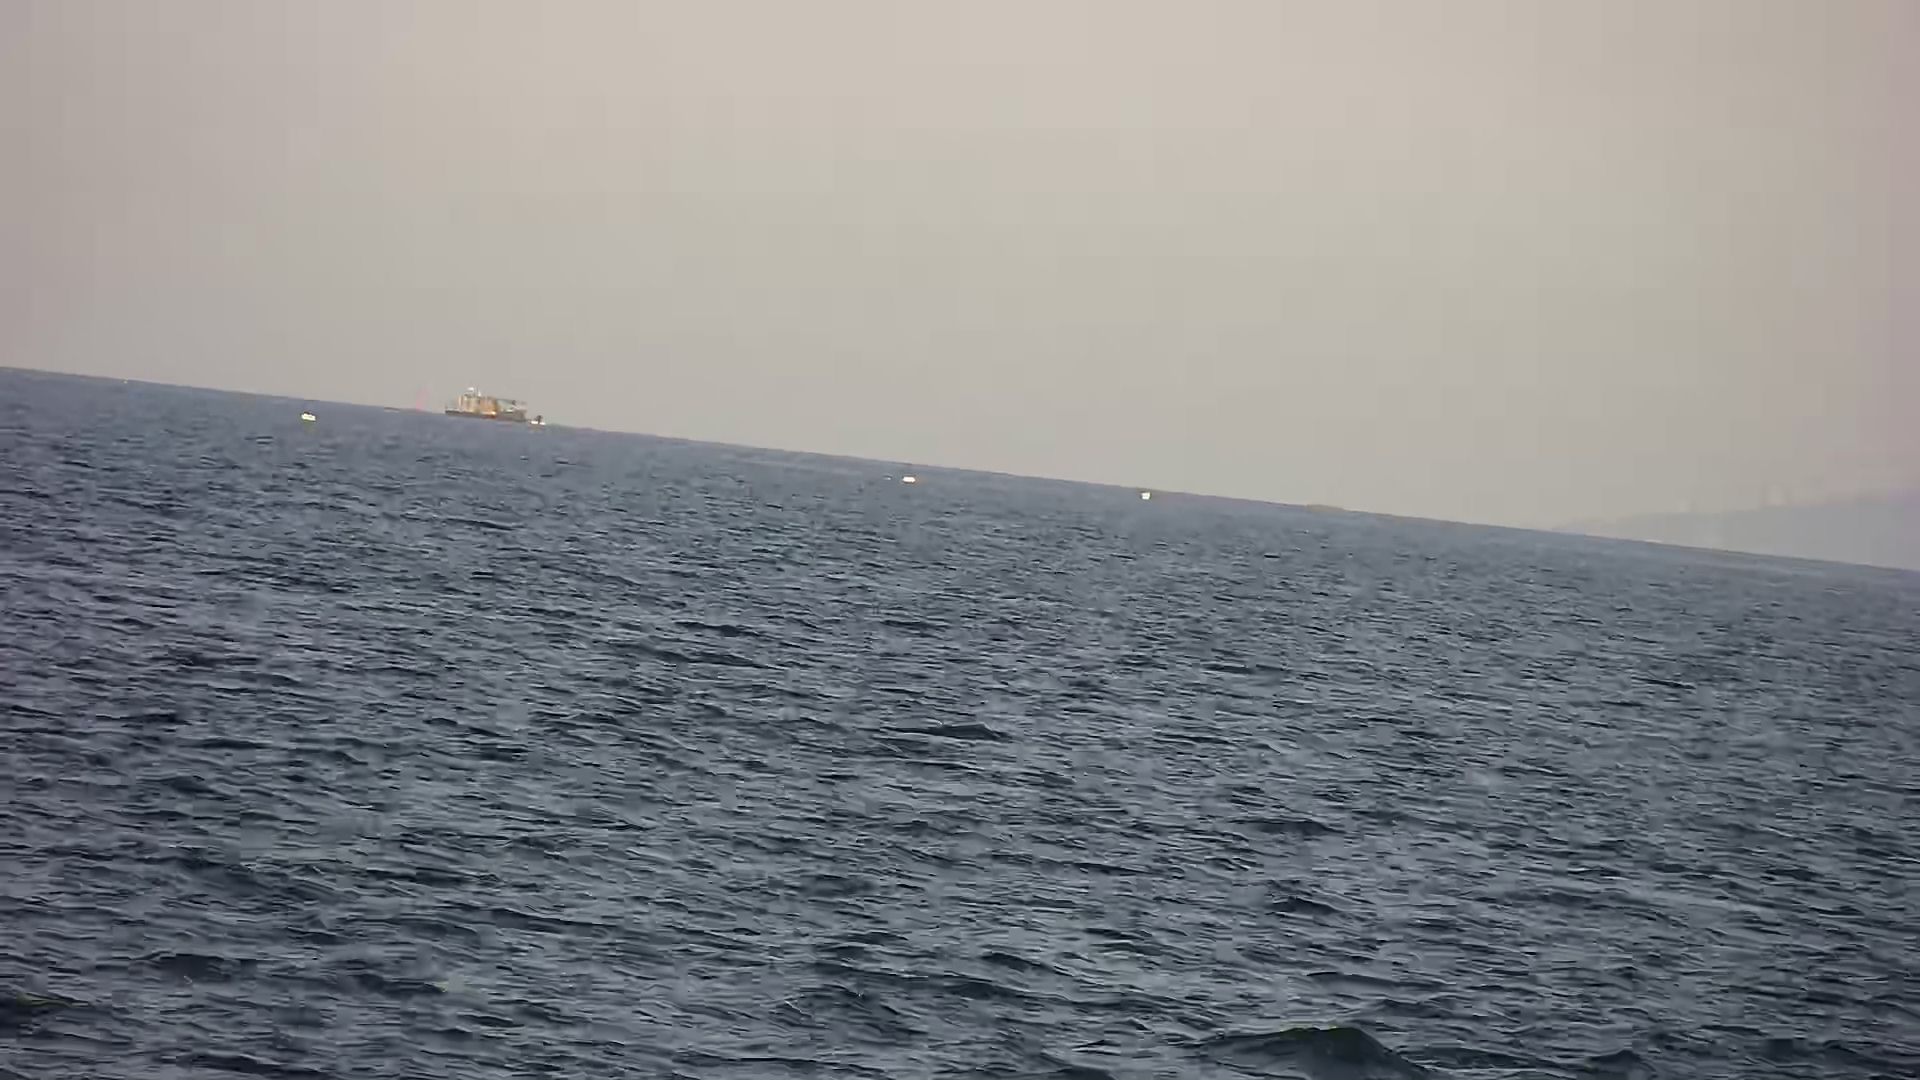ship: (429, 373, 554, 430)
